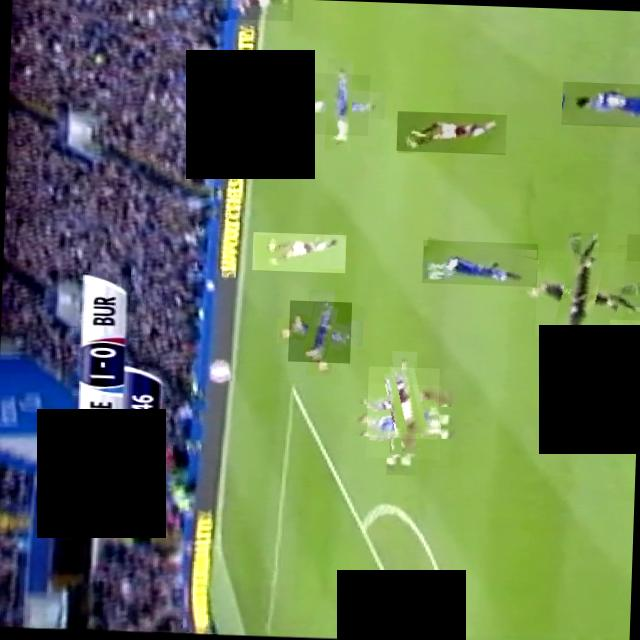referee: (534, 250, 624, 340)
soccer-player: (364, 382, 441, 460), (365, 366, 438, 439), (421, 240, 536, 286), (395, 110, 505, 154), (286, 300, 351, 363), (306, 72, 368, 136), (251, 232, 345, 272), (560, 81, 640, 127), (213, 0, 292, 21), (607, 319, 640, 356), (625, 233, 640, 261)
